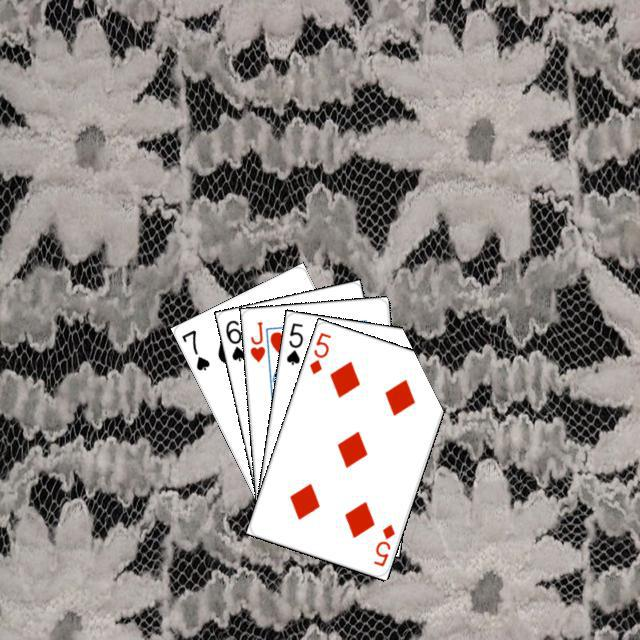5d: (304, 327, 333, 376), (369, 519, 397, 568)
5s: (281, 318, 305, 367)
6s: (221, 315, 247, 363)
7s: (177, 325, 212, 372)
Jh: (245, 316, 266, 364)
